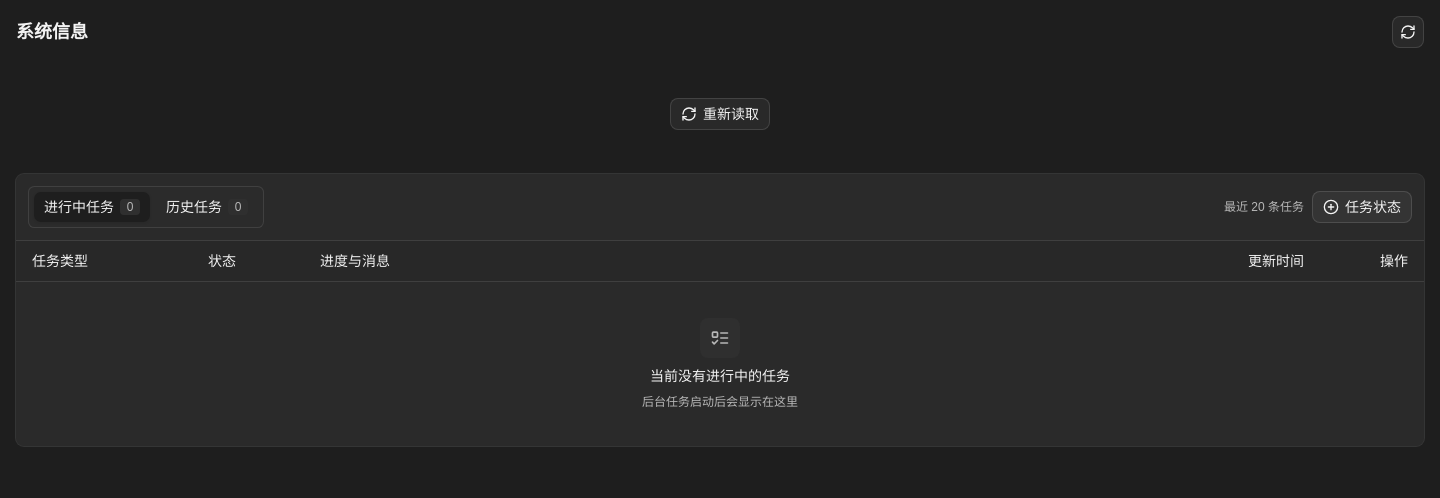
资源首次读取失败后停止骨架并提供重试，重试成功后展示资源指标
The image size is (1440, 498).
Click the button "重新读取" at (720, 114), box 670,98 -> 770,130
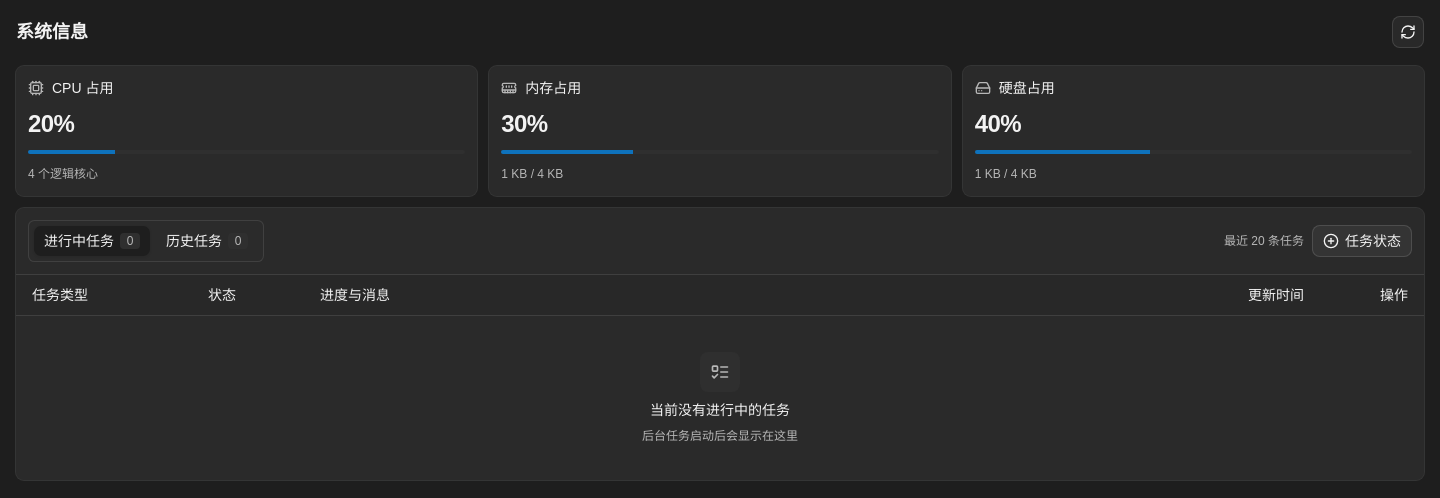
Expected: the text "CPU 占用" is shown, 52,78 -> 114,98
Expected: the button "重新读取" is gone
